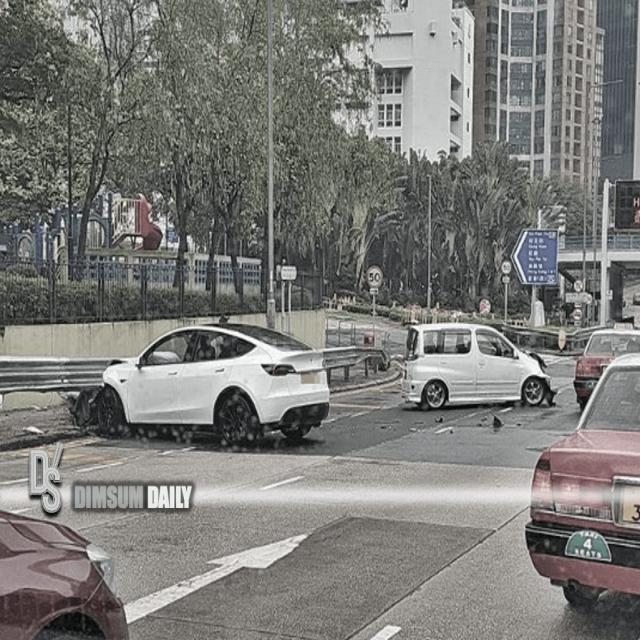car: (92, 315, 328, 450), (557, 341, 640, 616), (384, 311, 554, 418)
